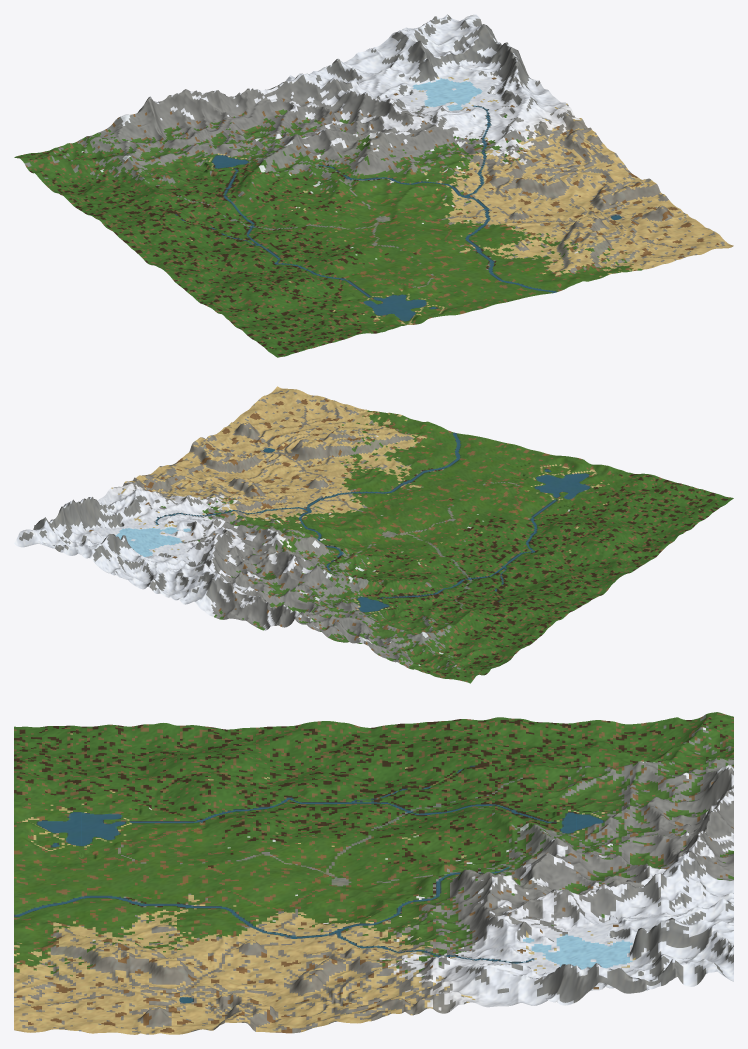
The model's file is world_far.glb.
3 views of the same model, one above another, from view 1: azimuth 30°, elevation 25°; view 2: azimuth 150°, elevation 25°; view 3: azimuth 270°, elevation 25° (orthographic). The views are drawn at different scales.
Parts seen in each view (by area): view 1: Surface_Grass, Surface_Gravel, Surface_Sand, Surface_Snow, Surface_Dirt, Surface_Mud, Surface_Water, Water, Surface_Ice; view 2: Surface_Grass, Surface_Gravel, Surface_Sand, Surface_Dirt, Surface_Snow, Surface_Mud, Surface_Water, Water, Surface_Ice; view 3: Surface_Grass, Surface_Gravel, Surface_Sand, Surface_Dirt, Surface_Snow, Surface_Mud, Surface_Water, Water, Surface_Ice.
Boxes of the visible parts, x1,y1,x2,y2 form: Surface_Grass: [14, 109, 642, 357]; Surface_Gravel: [24, 14, 724, 287]; Surface_Sand: [191, 77, 733, 338]; Surface_Snow: [81, 14, 580, 259]; Surface_Dirt: [17, 77, 719, 356]; Surface_Mud: [27, 138, 496, 355]; Surface_Water: [175, 105, 621, 321]; Water: [181, 105, 621, 321]; Surface_Ice: [412, 78, 482, 110]; Surface_Grass: [161, 410, 733, 683]; Surface_Gravel: [19, 390, 529, 672]; Surface_Sand: [111, 386, 700, 615]; Surface_Dirt: [89, 393, 729, 682]; Surface_Snow: [14, 435, 569, 666]; Surface_Mud: [204, 468, 727, 677]; Surface_Water: [155, 432, 590, 612]; Water: [155, 433, 589, 612]; Surface_Ice: [115, 527, 191, 556]; Surface_Grass: [14, 712, 733, 977]; Surface_Gravel: [14, 714, 733, 1034]; Surface_Sand: [14, 733, 635, 1034]; Surface_Dirt: [14, 713, 733, 1033]; Surface_Snow: [92, 727, 733, 1011]; Surface_Mud: [14, 718, 728, 957]; Surface_Water: [14, 765, 604, 1003]; Water: [15, 769, 602, 1003]; Surface_Ice: [523, 934, 632, 969].
Size of the model in its own units: 2048 by 238 by 2048.
